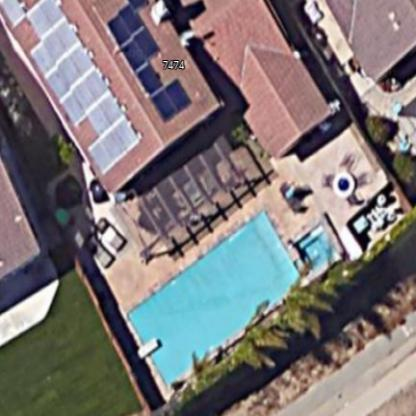pool: (114, 201, 308, 395)
